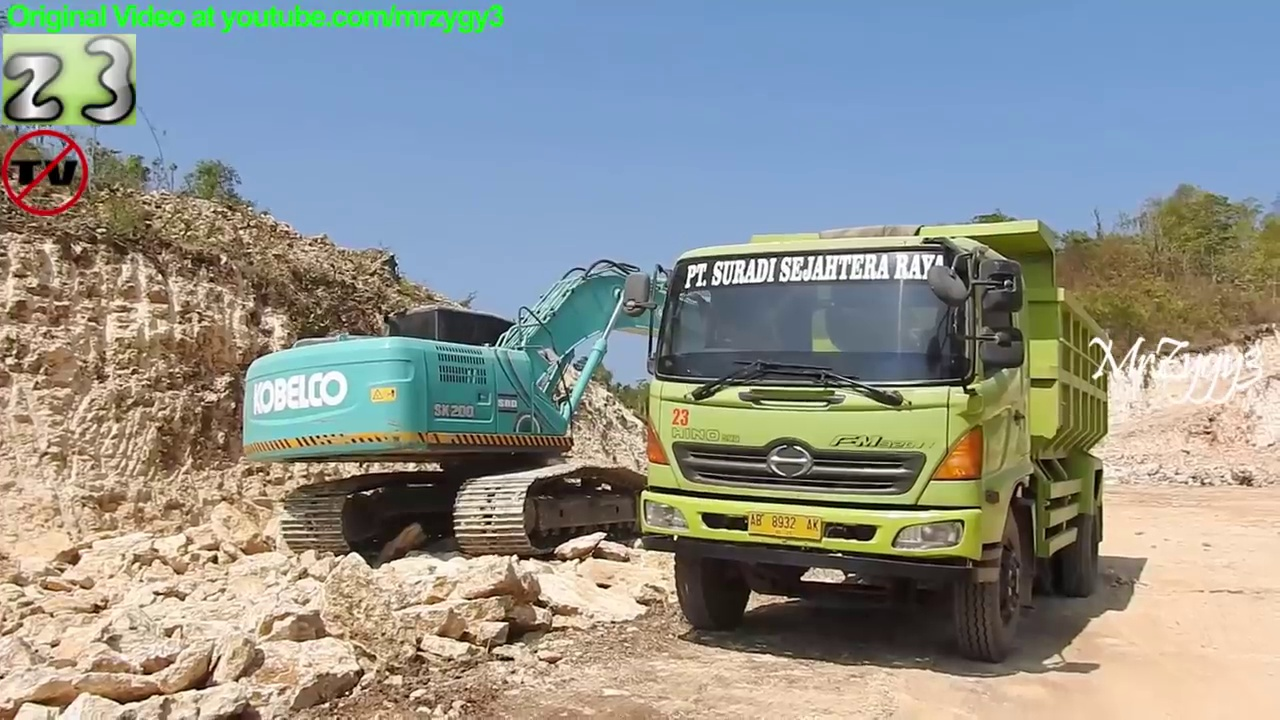excavator: (231, 252, 913, 568)
truck: (615, 210, 1122, 669)
